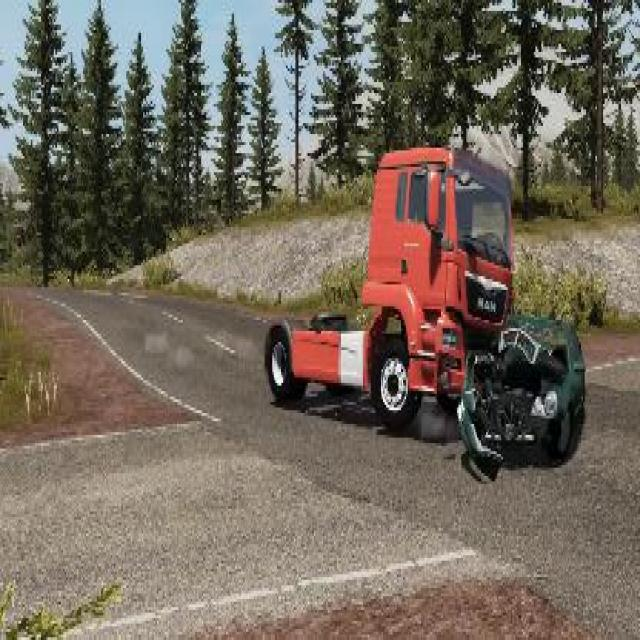accident: (257, 118, 589, 473)
